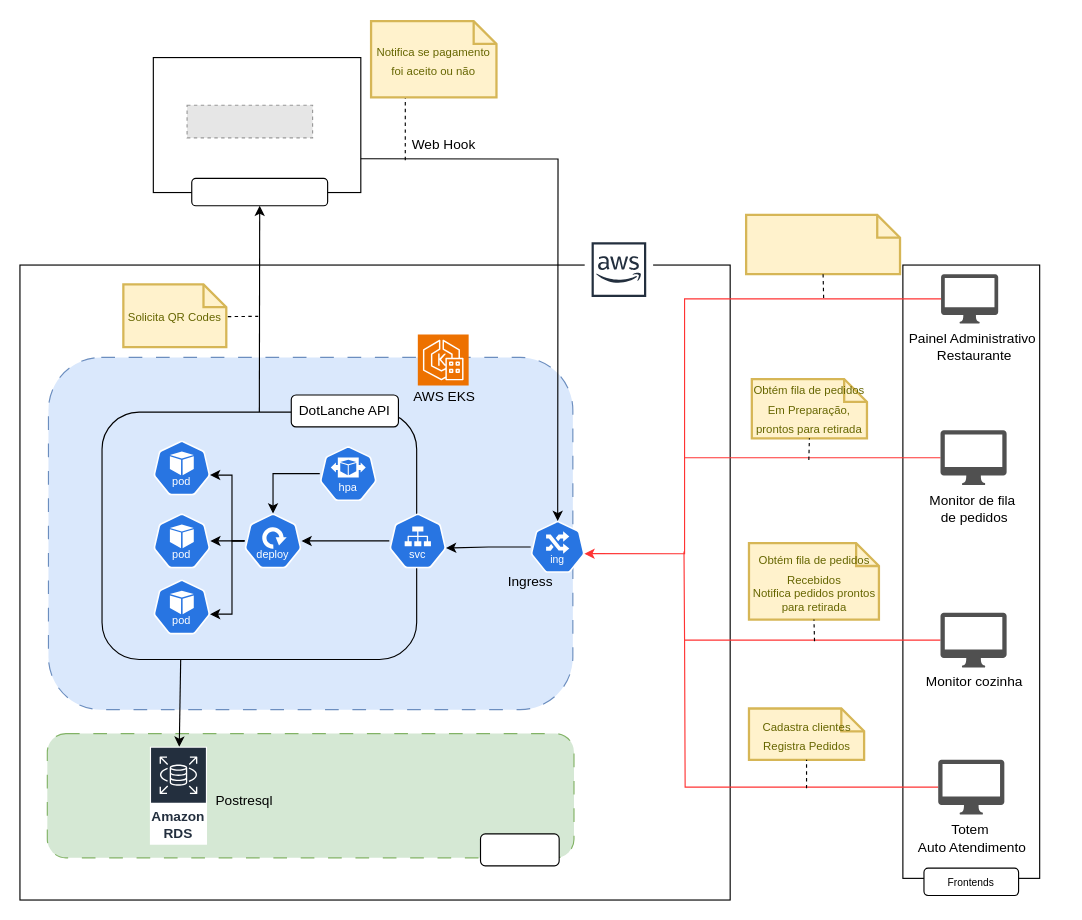
This 1082x920 diagram has some shape labels left out. Grey dashed boxes stand in for pictures. The shapes that lost their labels are listed below. From the top down, each one's centre as x and y in pixels, then its label:
At point (259, 191): "Serviço de Pagamento".
At point (822, 244): "Cria, edita, remove produtos Consulta base de clientes".
At point (618, 269): "AWS Cloud".
At point (519, 849): "Database".
